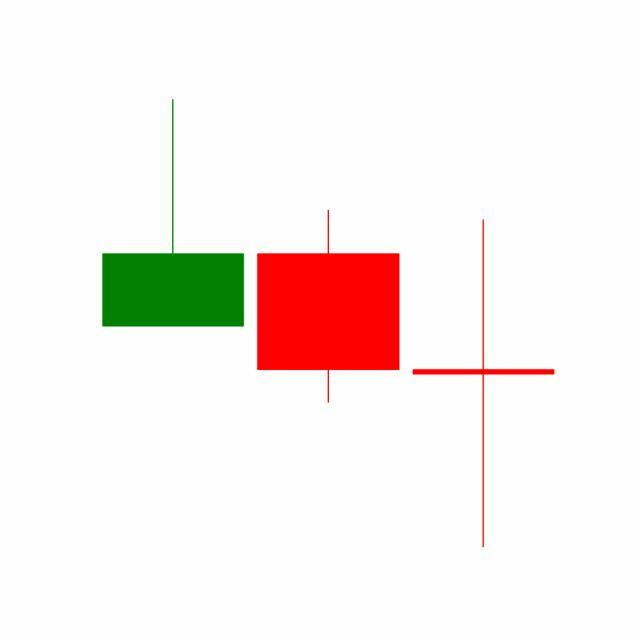Spinning Top: (406, 217, 562, 552)
